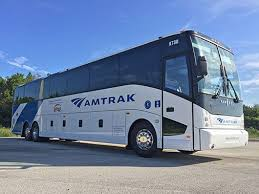bus: (10, 29, 250, 157)
